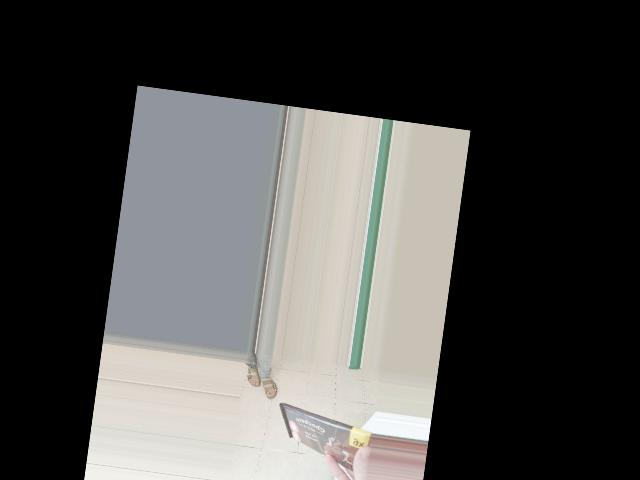chocolate: (245, 391, 338, 480)
